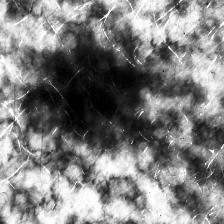Benign Marking or Mole: (22, 48, 146, 139)
